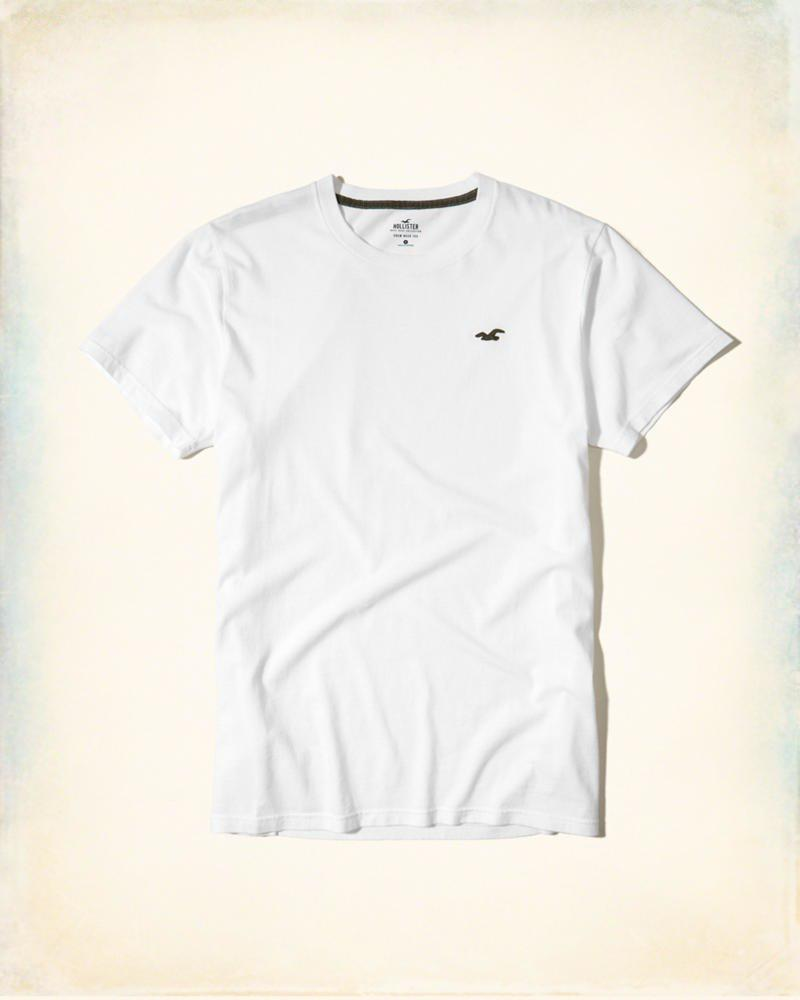teeshirt: (74, 165, 749, 854)
